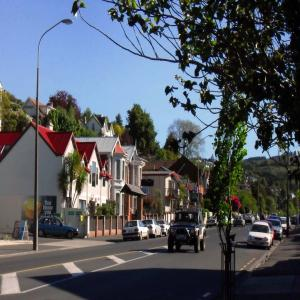Vehicle-registration-plate: (180, 236, 185, 240)
